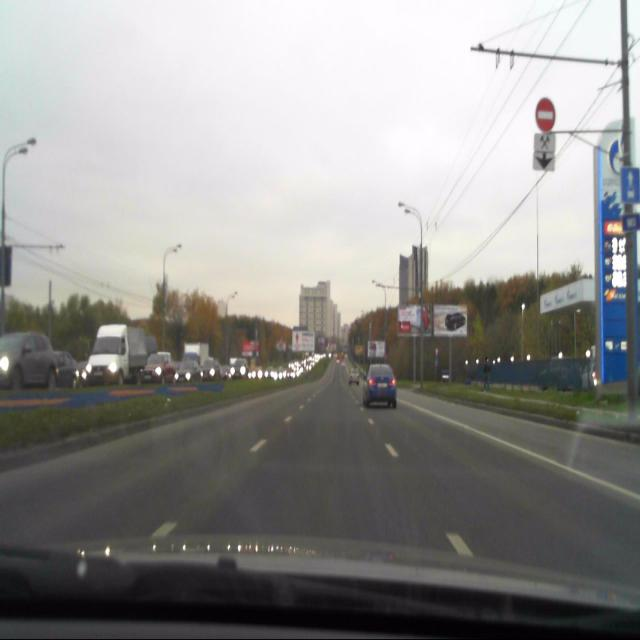road sign: (620, 169, 640, 205)
